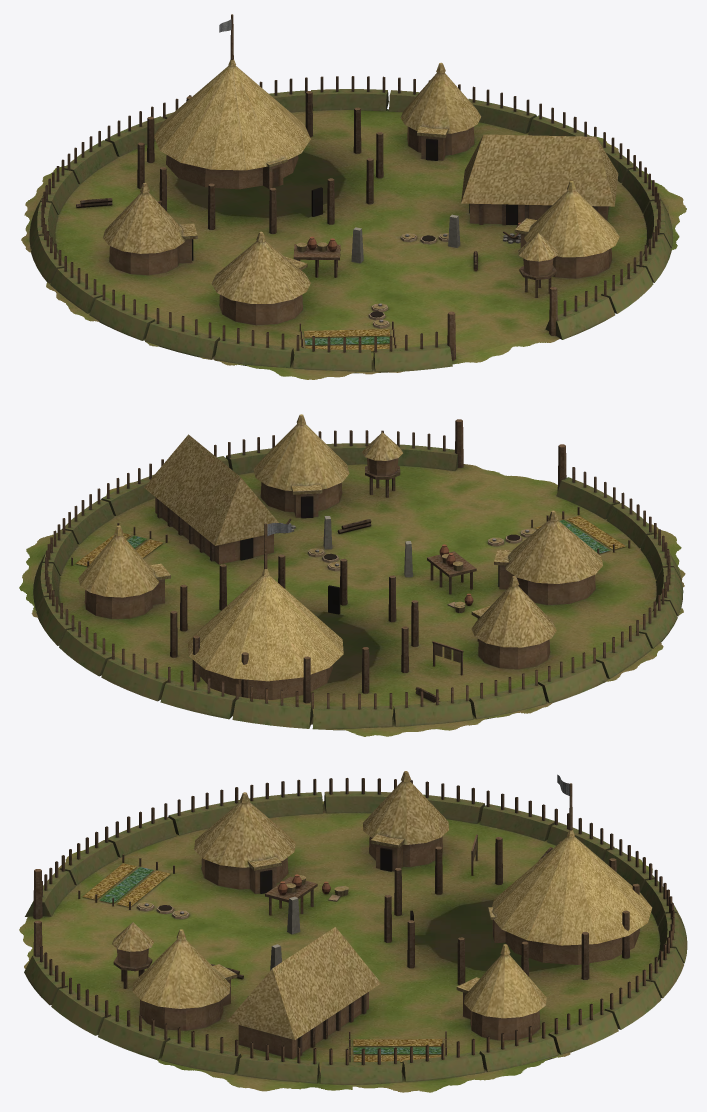
Rendered from stone-town-small-b-europe.glb.
3 renders of one model, top to bottom at view 1: azimuth 30°, elevation 25°; view 2: azimuth 150°, elevation 25°; view 3: azimuth 270°, elevation 25°, orthographic. The views are drawn at different scales.
Parts seen in each view (by area): view 1: LOD0; view 2: LOD0; view 3: LOD0.
Boxes of the visible parts, x1=… form: LOD0: x1=21, y1=14, x2=686, y2=379; LOD0: x1=19, y1=414, x2=685, y2=736; LOD0: x1=19, y1=771, x2=687, y2=1092.
Size of what is drawn, in the model's own units: 3.98 by 0.9734 by 3.81.
Materials: 3 (3 with a texture image).
